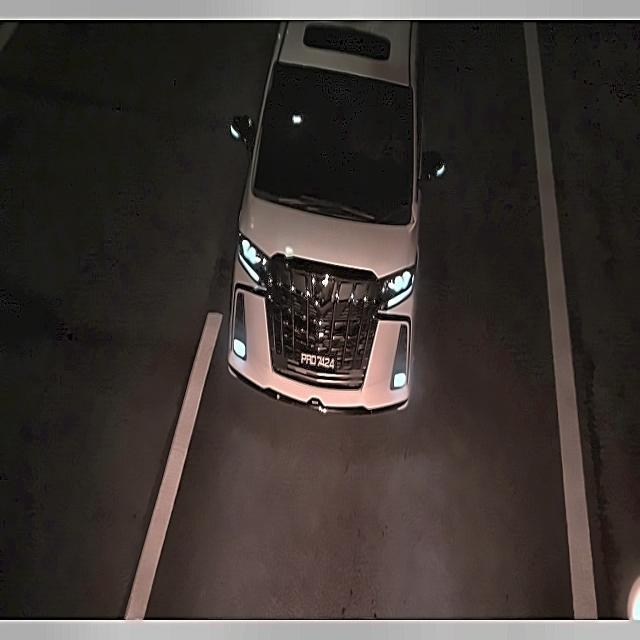car: (295, 342, 343, 381)
